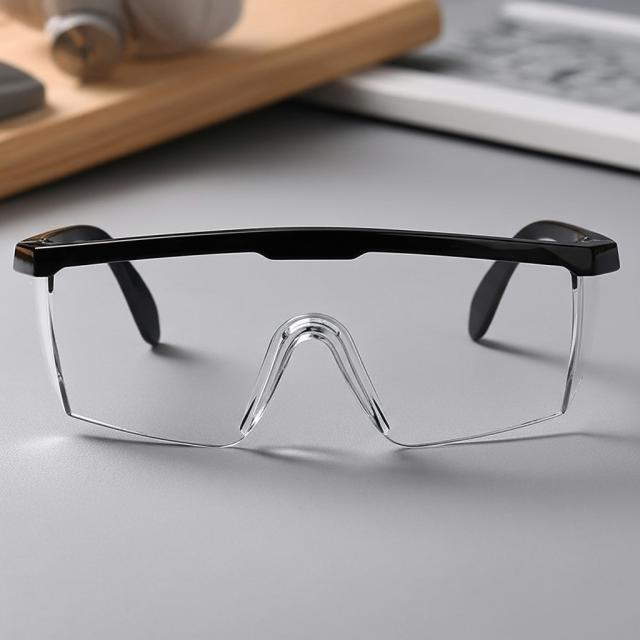oculos-epi: (14, 221, 619, 448)
